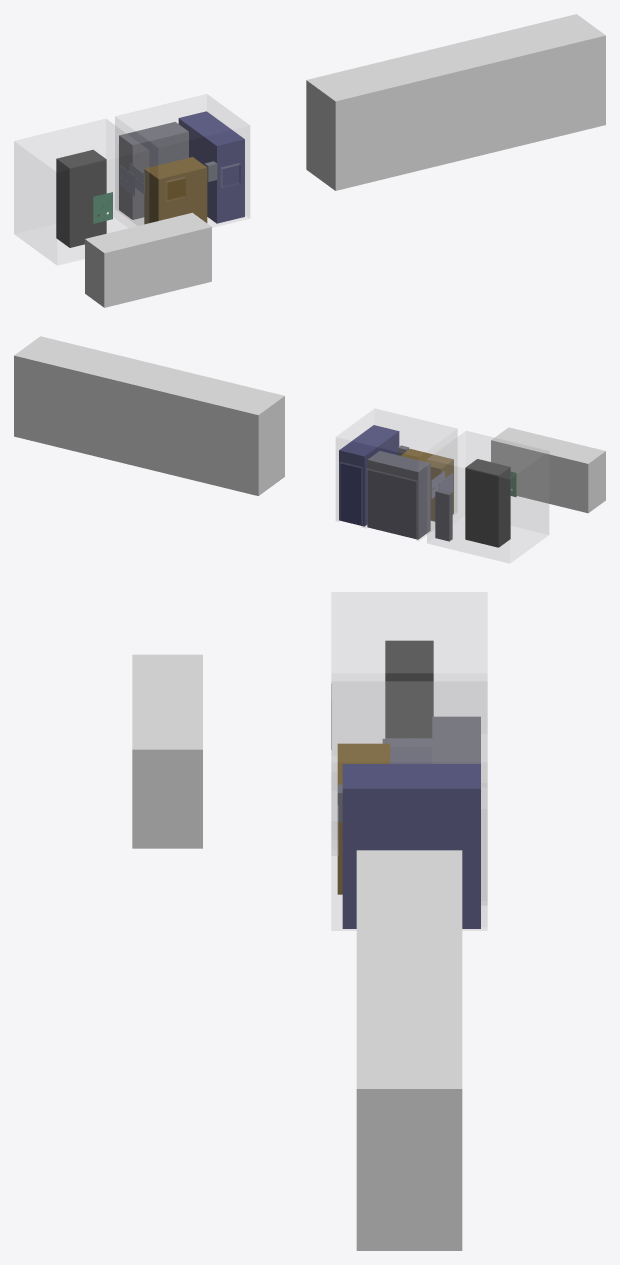
The model's file is assembly.glb.
3 renders of one model, top to bottom at view 1: azimuth 30°, elevation 25°; view 2: azimuth 150°, elevation 25°; view 3: azimuth 270°, elevation 25°, orthographic. The views are drawn at different scales.
Visible parts, largest first — view 1: EXT-BESS-001, container_shell (×2), EXT-DC-001, GRD-SWG-001, CMP-RACK-001, GRD-XFM-001, GRD-LVS-001, ARC-PLT-CD; view 2: EXT-BESS-001, container_shell (×2), EXT-DC-001, GRD-LVS-001, CMP-RACK-001, GRD-SWG-001, GRD-XFM-001, CMP-PNL-001; view 3: container_shell (×2), EXT-BESS-001, GRD-SWG-001, EXT-DC-001, CMP-RACK-001, GRD-LVS-001, GRD-XFM-001.
Part boxes in pixels (bbox=[...]): EXT-BESS-001: bbox=[306, 14, 605, 190]; container_shell (×2): bbox=[14, 94, 249, 265]; EXT-DC-001: bbox=[85, 212, 211, 307]; GRD-SWG-001: bbox=[178, 111, 244, 223]; CMP-RACK-001: bbox=[56, 149, 106, 247]; GRD-XFM-001: bbox=[144, 157, 207, 223]; GRD-LVS-001: bbox=[119, 122, 188, 219]; ARC-PLT-CD: bbox=[93, 192, 112, 223]; EXT-BESS-001: bbox=[14, 336, 284, 495]; container_shell (×2): bbox=[336, 408, 548, 563]; EXT-DC-001: bbox=[491, 427, 605, 513]; GRD-LVS-001: bbox=[367, 451, 430, 539]; CMP-RACK-001: bbox=[465, 459, 510, 547]; GRD-SWG-001: bbox=[339, 425, 399, 526]; GRD-XFM-001: bbox=[401, 448, 453, 521]; CMP-PNL-001: bbox=[435, 489, 452, 541]; container_shell (×2): bbox=[331, 592, 487, 930]; EXT-BESS-001: bbox=[356, 850, 462, 1250]; GRD-SWG-001: bbox=[342, 764, 480, 928]; EXT-DC-001: bbox=[132, 654, 202, 848]; CMP-RACK-001: bbox=[385, 640, 433, 742]; GRD-LVS-001: bbox=[432, 716, 480, 763]; GRD-XFM-001: bbox=[337, 743, 390, 894].
Size of the model in its own units: 18336 by 2896 by 5538.
